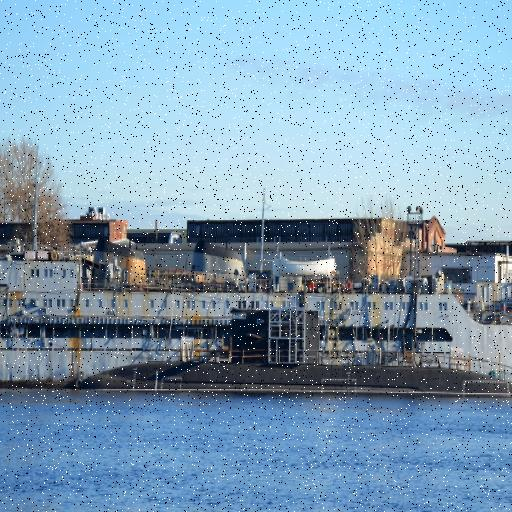submarine: (74, 310, 512, 393)
